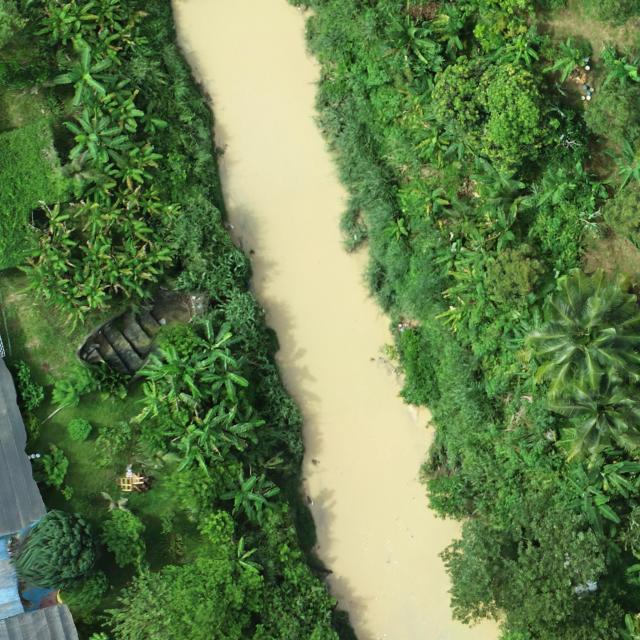Tree: (519, 266, 640, 399), (429, 55, 555, 165), (160, 555, 264, 640), (554, 362, 640, 463), (13, 508, 99, 592), (100, 564, 192, 640), (560, 459, 640, 538), (163, 459, 244, 514), (484, 237, 548, 302), (50, 45, 114, 107), (62, 105, 128, 164), (530, 107, 593, 167), (136, 346, 201, 402), (472, 0, 537, 52), (435, 281, 502, 330), (584, 82, 640, 138), (379, 14, 437, 66), (14, 252, 72, 303), (99, 509, 148, 569), (112, 236, 159, 298), (59, 569, 108, 625), (190, 319, 244, 367), (107, 140, 164, 184), (171, 416, 212, 476), (197, 356, 250, 402), (602, 191, 640, 250), (468, 158, 524, 198), (191, 405, 236, 454), (536, 161, 582, 207), (48, 369, 100, 409), (219, 464, 256, 520), (481, 199, 522, 249), (84, 359, 131, 402), (75, 196, 117, 244), (431, 237, 481, 276), (432, 4, 470, 54), (133, 233, 179, 274), (31, 442, 70, 490), (71, 264, 111, 310), (224, 399, 265, 443), (22, 226, 76, 259), (605, 138, 640, 188), (541, 36, 579, 82), (13, 359, 44, 413), (34, 2, 78, 40), (129, 379, 165, 424), (195, 510, 238, 546), (221, 537, 265, 572), (486, 38, 540, 66), (413, 180, 448, 219), (110, 90, 143, 127), (594, 523, 622, 566), (62, 0, 98, 33), (248, 473, 279, 511), (601, 56, 640, 86), (79, 236, 113, 268), (139, 102, 170, 134), (41, 201, 71, 233), (114, 184, 145, 214), (115, 212, 152, 236), (83, 178, 117, 203), (101, 78, 132, 105), (88, 0, 123, 22), (381, 218, 408, 244), (67, 418, 94, 442), (142, 184, 162, 200)
